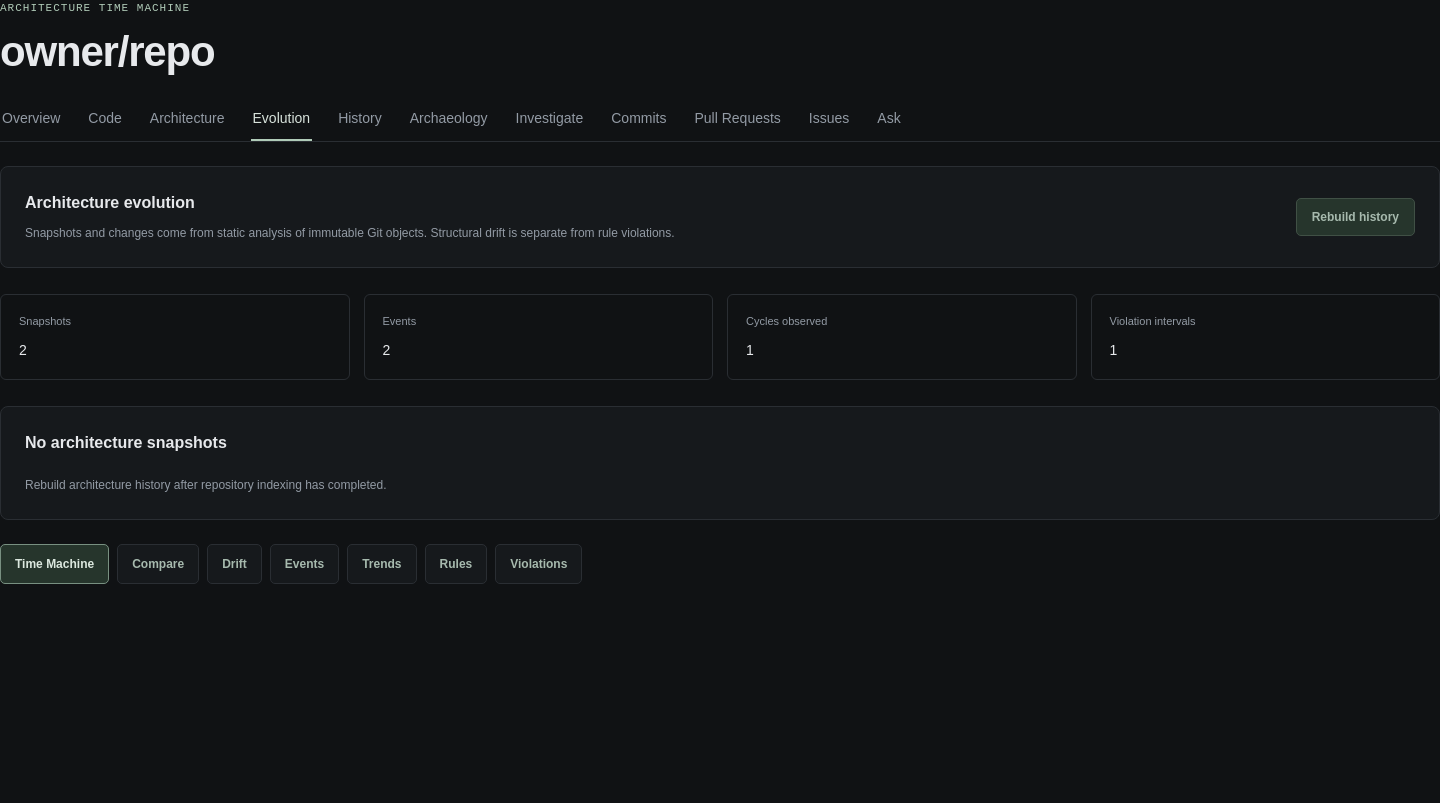
Test: architecture evolution › keeps structural drift separate and previews policy rules
Click the tab "Events".
click(304, 564)  # box [270,544,339,584]
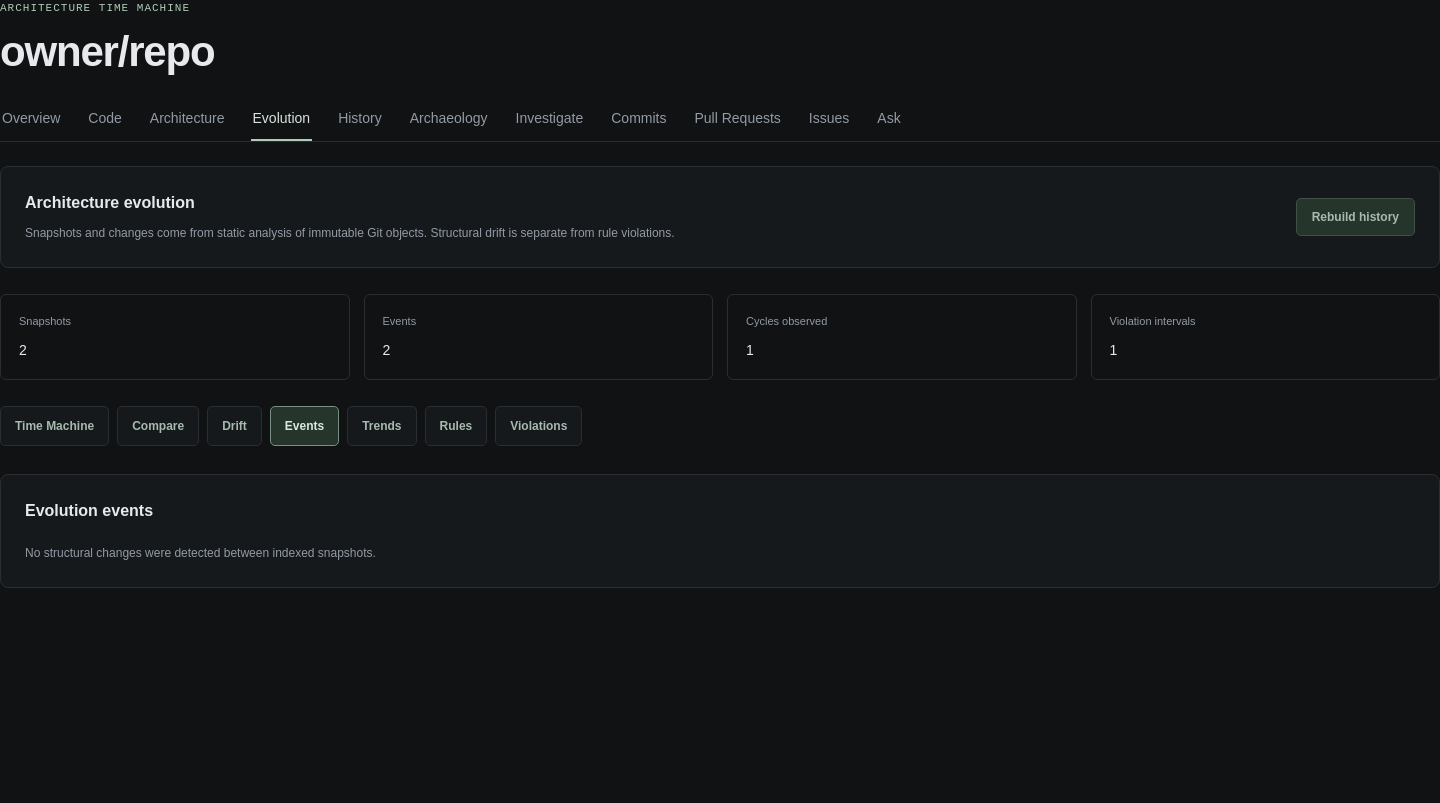
Result: the text "No structural changes were detected between indexed snapshots." is shown at [25,546,376,560]
Click the tab "Drift".
click(235, 426)  # box [207,406,262,446]
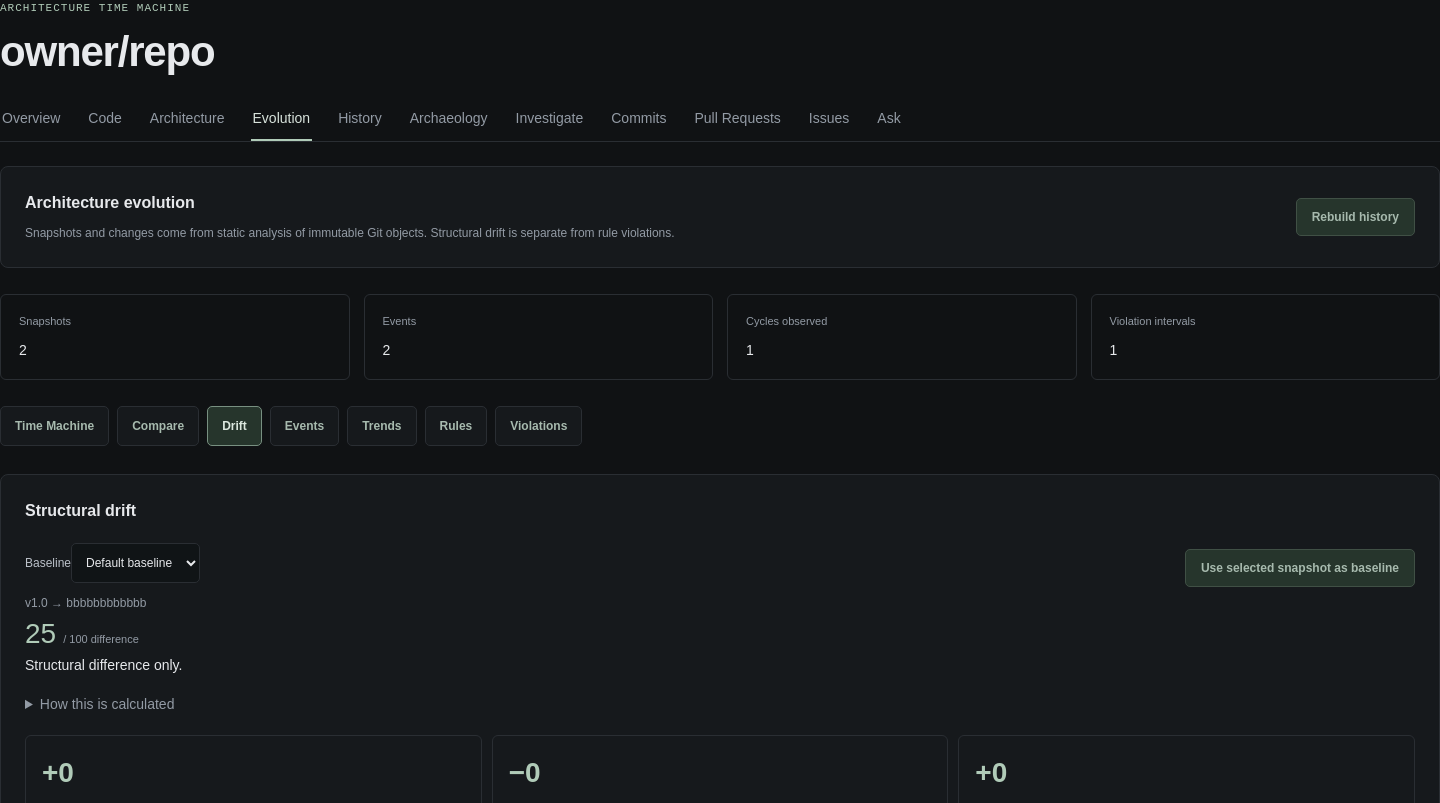
Result: the text "Structural difference only." is shown at [25,657,182,673]
Result: the dropdown named "Architecture baseline" shows "Default baseline" at [71,543,200,583]
Click the button "Use selected snapshot as baseline".
click(1300, 568)  # box [1185,549,1415,587]
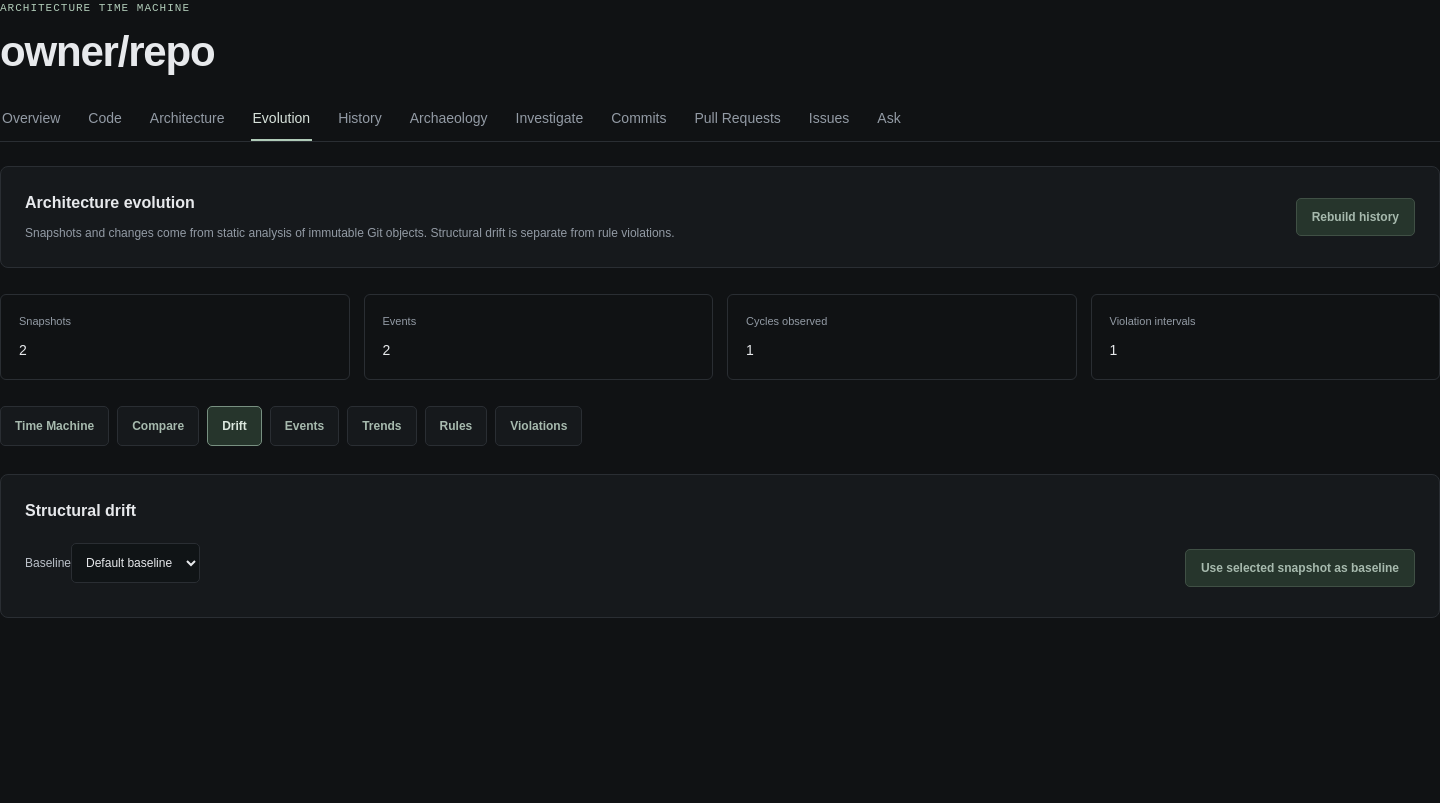
Click the tab "Rules".
click(456, 426)  # box [424,406,487,446]
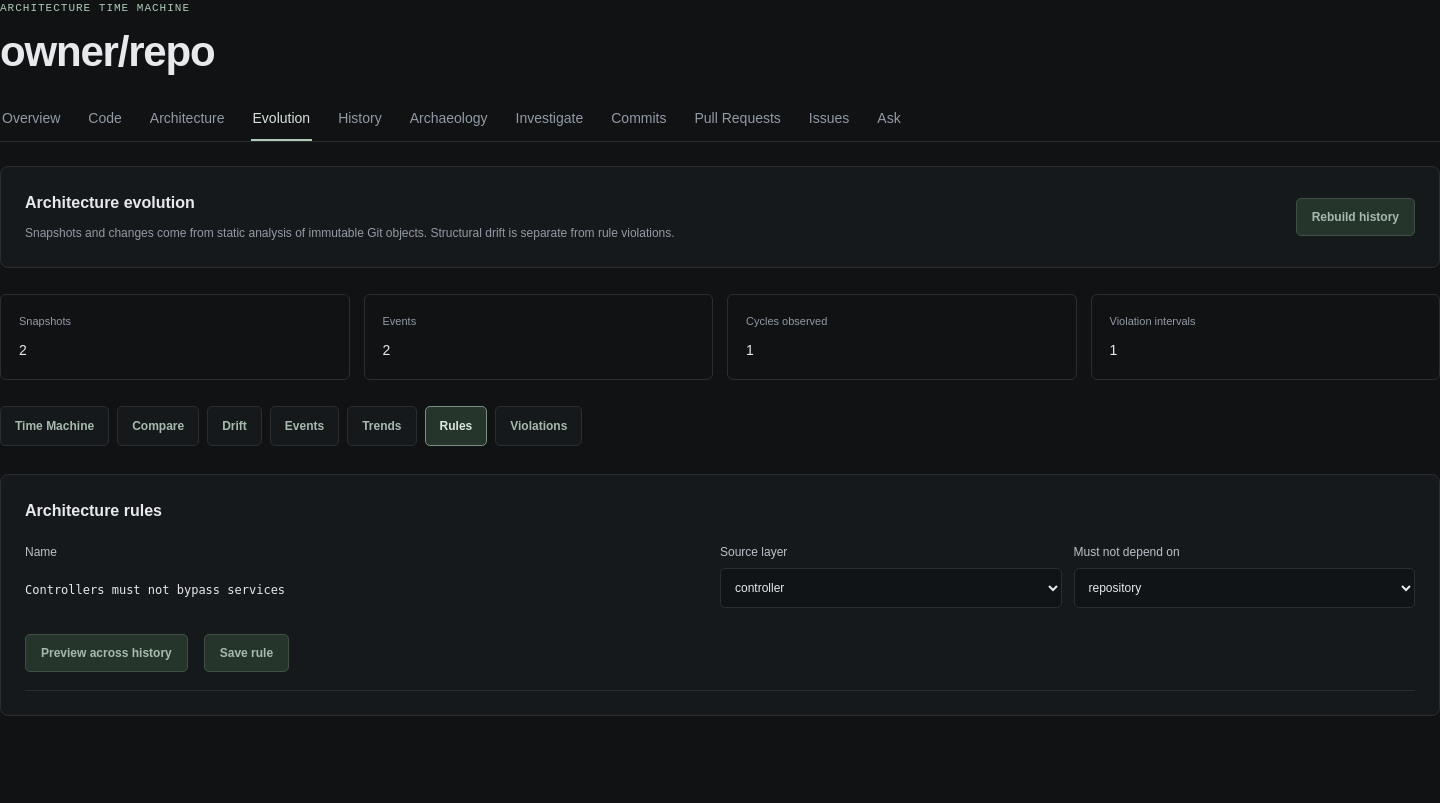
Click the button "Preview across history".
click(106, 653)  # box [25,634,188,672]
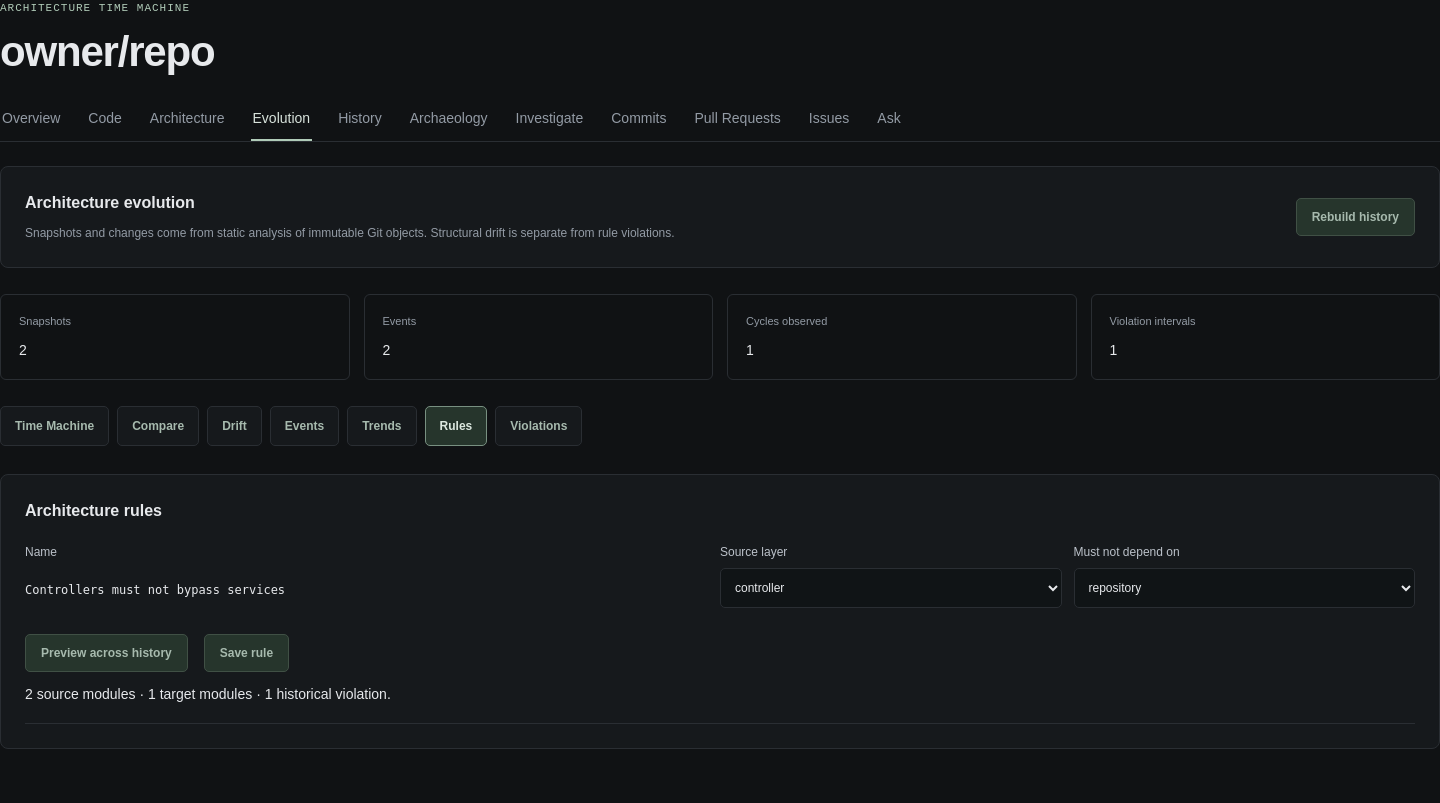
Result: the text "2 source modules · 1 target modules · 1 historical violation." is shown at [25,686,391,702]
